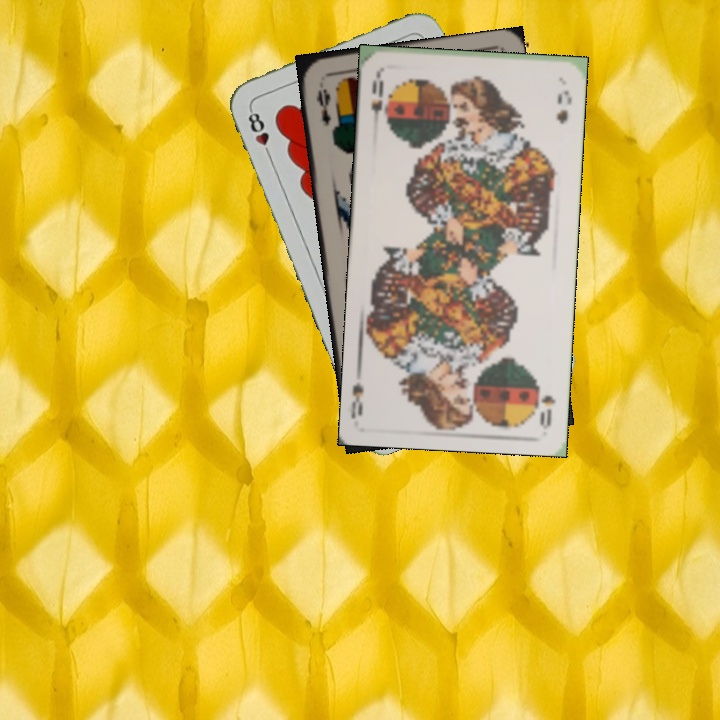EO: (312, 84, 334, 128)
H8: (244, 104, 275, 161)
SO: (366, 71, 386, 130), (535, 391, 558, 430)
